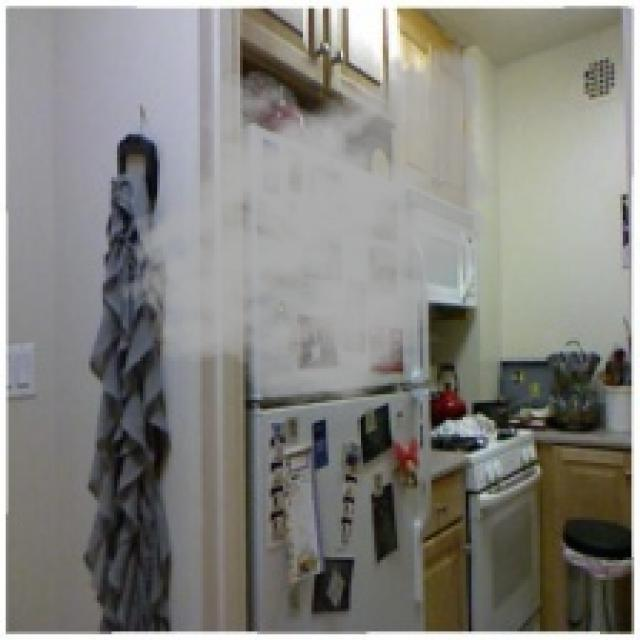Smoke: (117, 31, 503, 408)
